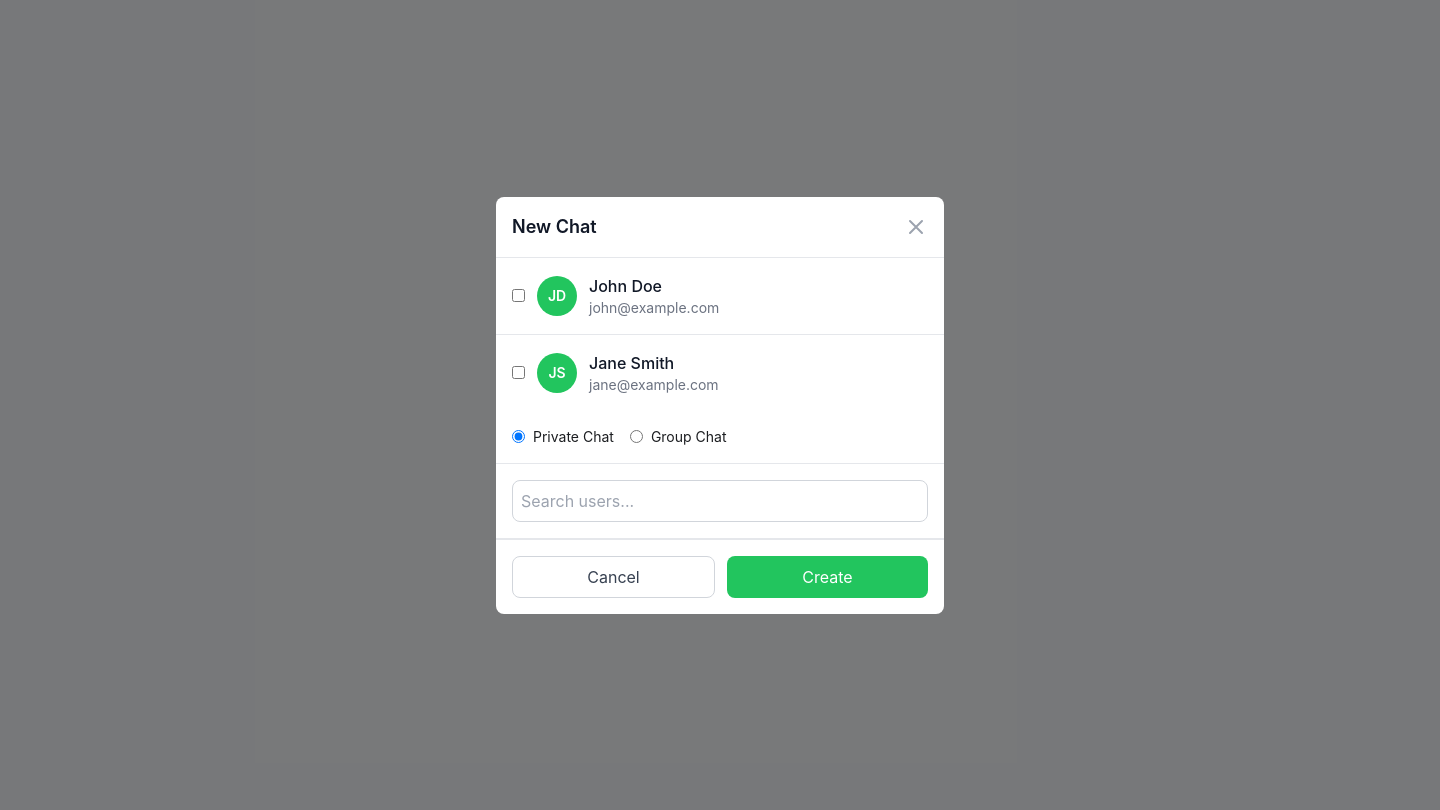
it: NewChatModal › TDD: User Selection › should allow selecting users
The image size is (1440, 810).
Click the checkbox named "John Doe".
click(518, 296)  # box [512,289,525,302]
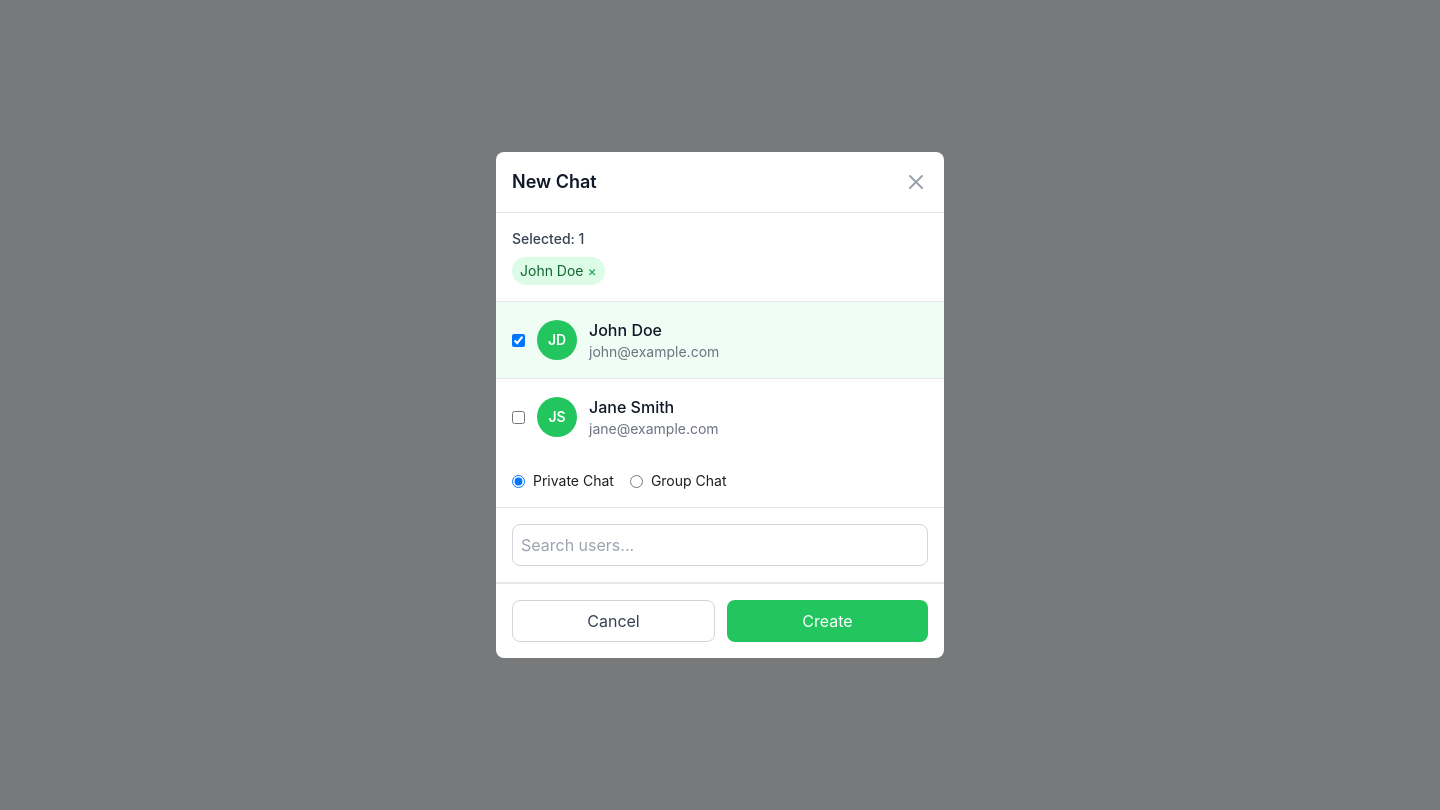
Check: the heading "Selected: 1" is shown, box [512,230,584,247]
